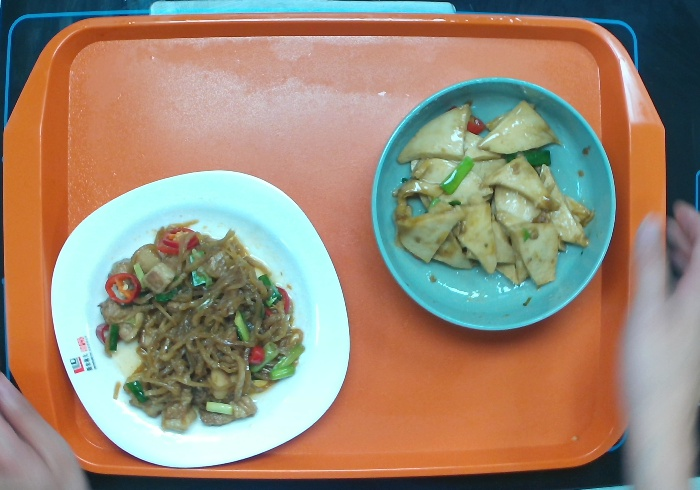ZNLD-Qing_Hua_Yuan_Wan: (360, 73, 619, 337)
ZNLD-Yuan_Jiao_Pan: (48, 167, 354, 471)
